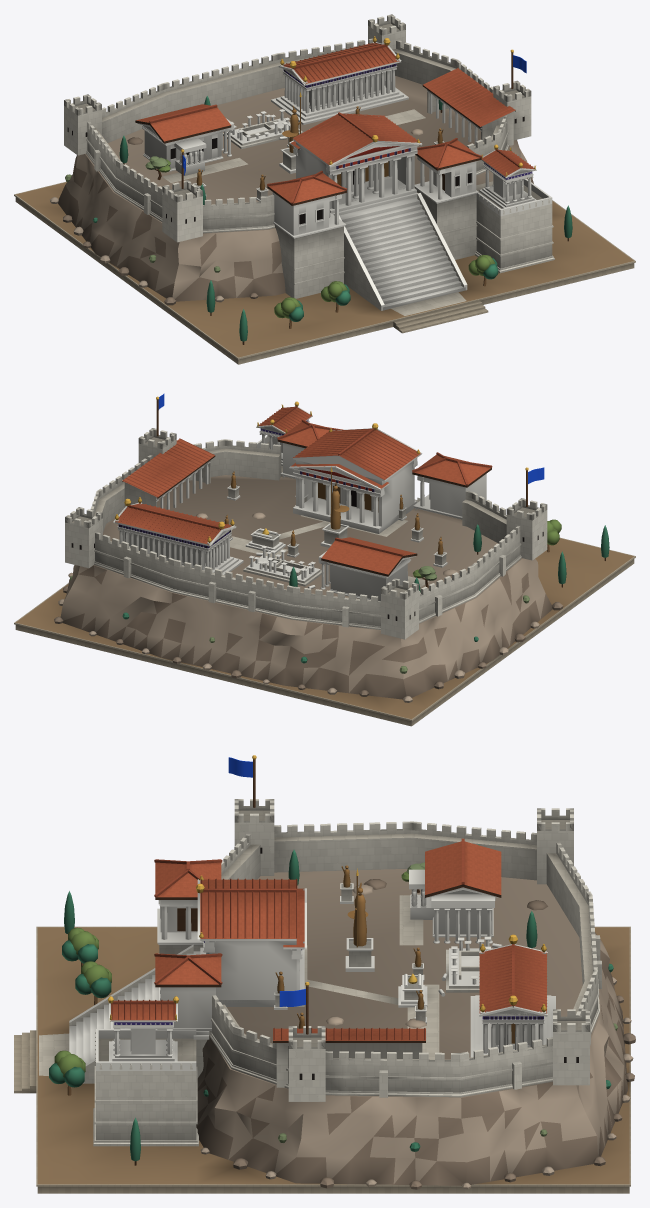
The model's file is lm_akropolsur.glb.
3 renders of one model, top to bottom at view 1: azimuth 30°, elevation 25°; view 2: azimuth 150°, elevation 25°; view 3: azimuth 270°, elevation 25°, orthographic. The views are drawn at different scales.
Visible parts, largest first — view 1: lm_akropolsur; view 2: lm_akropolsur; view 3: lm_akropolsur.
Part boxes in pixels (left/top/right/bottom): lm_akropolsur: left=14, top=14, right=635, bottom=364; lm_akropolsur: left=14, top=393, right=635, bottom=726; lm_akropolsur: left=14, top=755, right=635, bottom=1193.
Bounding box in the file's own units: 2.39 × 0.8289 × 2.35.
Materials: 1 (1 with a texture image).
